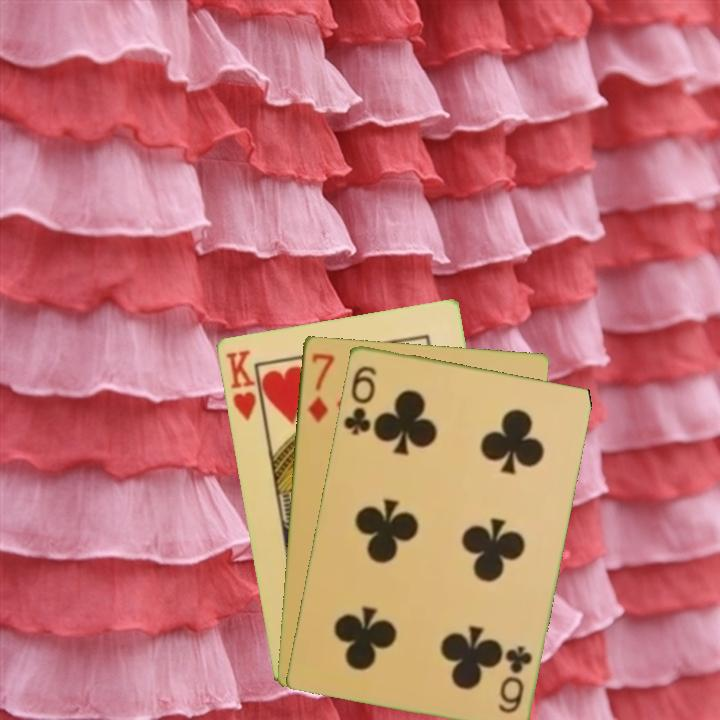6c: (494, 641, 535, 716), (340, 362, 379, 438)
7d: (303, 349, 337, 425)
Kh: (221, 346, 267, 426)
